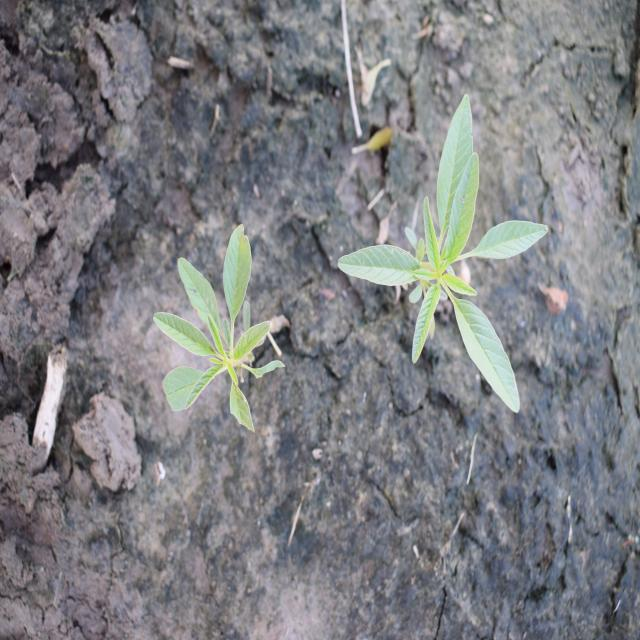Waterhemp: (336, 91, 550, 417), (152, 222, 287, 434)
